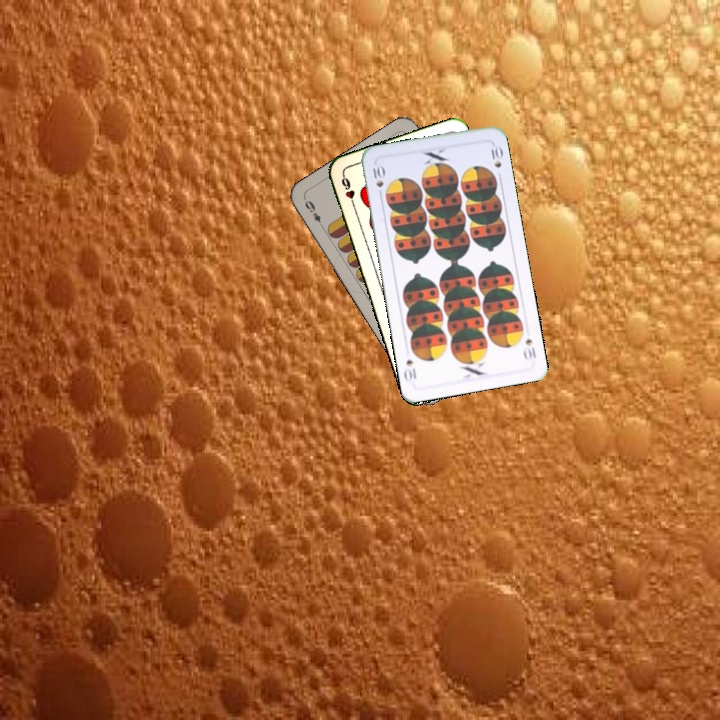E9: (300, 194, 327, 231)
H9: (337, 171, 358, 210)
S10: (520, 335, 539, 362), (369, 160, 386, 190)
